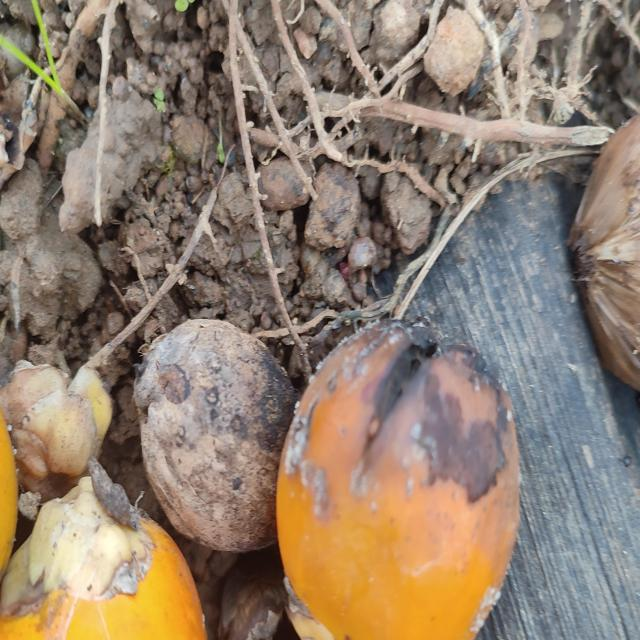damaged: (276, 321, 519, 640), (134, 319, 297, 552)
